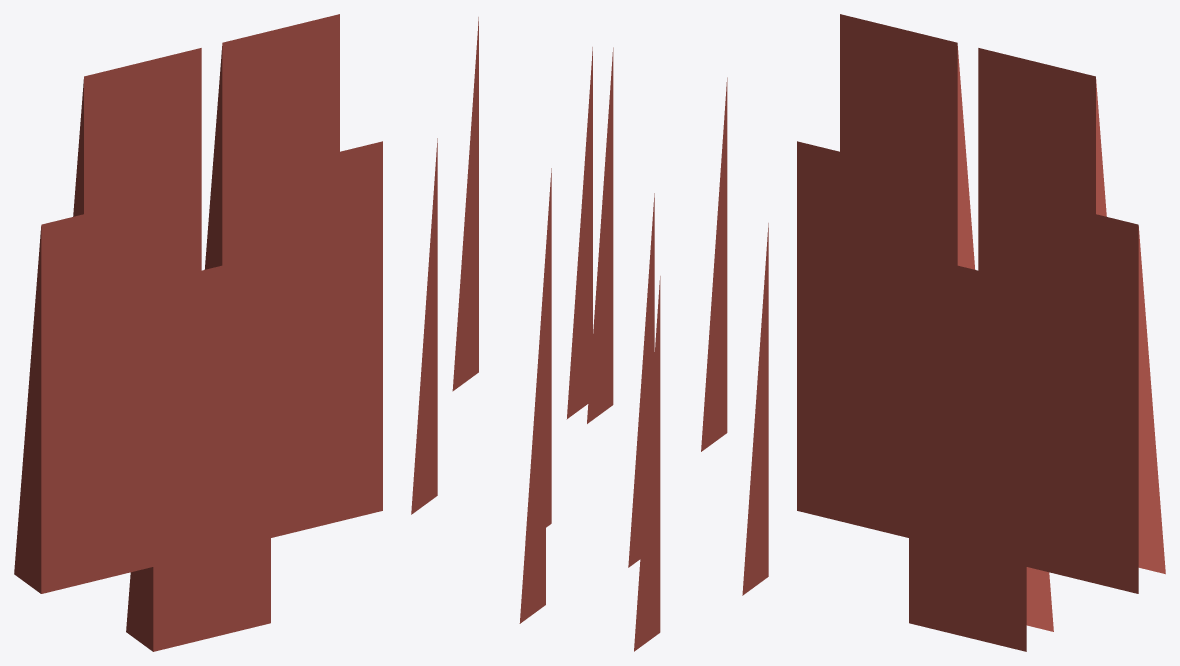
Rendered from p_star.glb.
3 renders of one model, left to right at view 1: azimuth 30°, elevation 25°; view 2: azimuth 150°, elevation 25°; view 3: azimuth 330°, elevation 25°, orthographic. The views are drawn at different scales.
Visible parts, largest first — view 1: body; view 2: body; view 3: body.
Part boxes in pixels (x1=…): body: x1=14, y1=14, x2=382, y2=651; body: x1=411, y1=17, x2=768, y2=651; body: x1=797, y1=14, x2=1165, y2=651.
Size of the model in its own units: 1.45 by 2.4 by 0.2.
